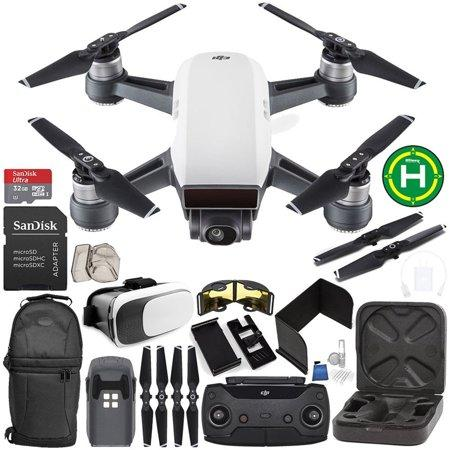drone: (16, 8, 418, 244)
